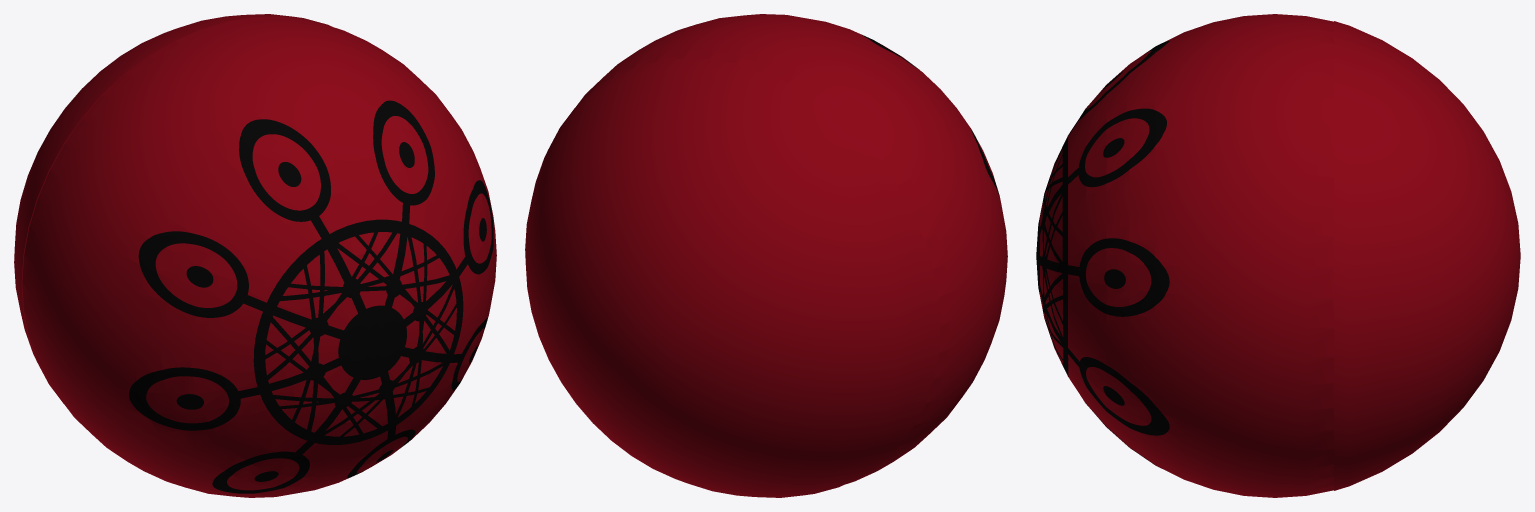
Rendered from sharingan.glb.
3 views of the same model, side by side, from view 1: azimuth 30°, elevation 25°; view 2: azimuth 150°, elevation 25°; view 3: azimuth 270°, elevation 25° (orthographic).
Parts seen in each view (by area): view 1: Object_3, Object_2; view 2: Object_3; view 3: Object_3, Object_2.
Boxes of the visible parts, x1,y1,x2,y2 form: Object_3: [14, 14, 496, 497]; Object_2: [129, 100, 493, 493]; Object_3: [525, 14, 1007, 497]; Object_3: [1040, 14, 1520, 497]; Object_2: [1036, 41, 1169, 465].
Bounding box in the file's own units: 30 × 30 × 30.
